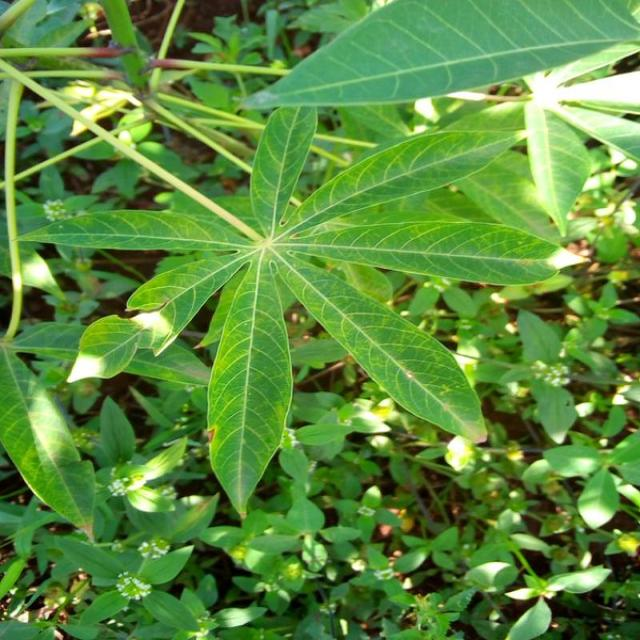cassava leaf: (13, 97, 581, 516), (238, 0, 638, 111), (205, 252, 293, 517)
